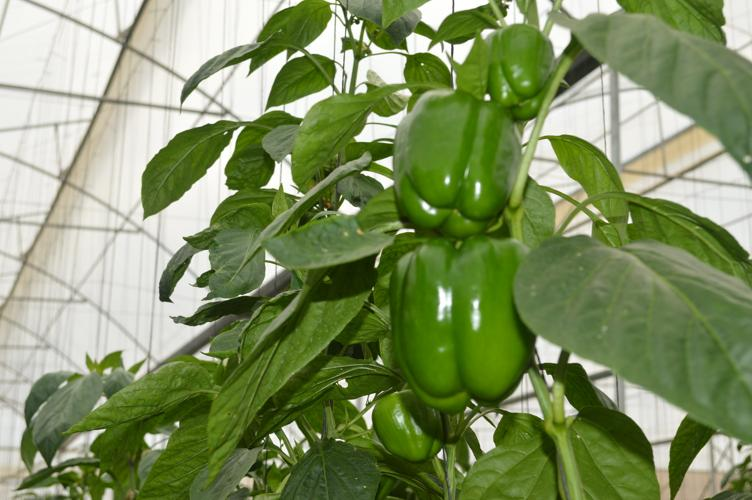BellPepper: (388, 235, 536, 406), (388, 91, 520, 235), (485, 24, 549, 115), (369, 393, 441, 466)
